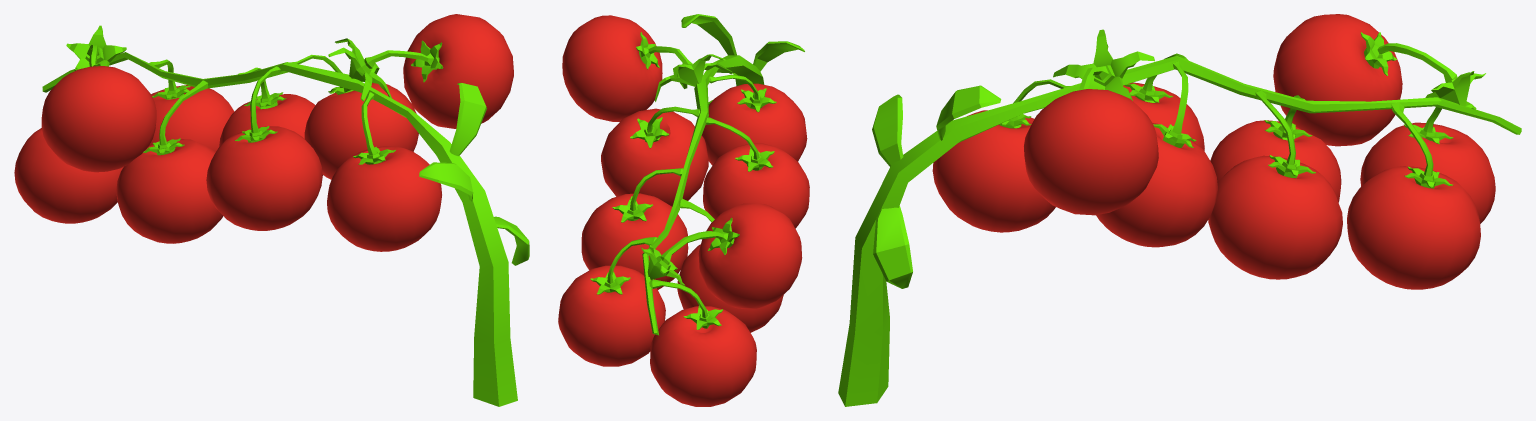
Rendered from Tomatoes.fbx.
The picture shows the model from 3 angles, left to right: view 1: azimuth 30°, elevation 25°; view 2: azimuth 150°, elevation 25°; view 3: azimuth 270°, elevation 25°; orthographic projection. The views are drawn at different scales.
Parts seen in each view (by area): view 1: Cylinder.008; view 2: Cylinder.008; view 3: Cylinder.008.
Boxes of the visible parts, x1,y1,x2,y2 form: Cylinder.008: (14, 14, 529, 406); Cylinder.008: (558, 14, 809, 406); Cylinder.008: (838, 14, 1521, 406).
Bounding box in the file's own units: 27.28 × 21.71 × 39.42.
